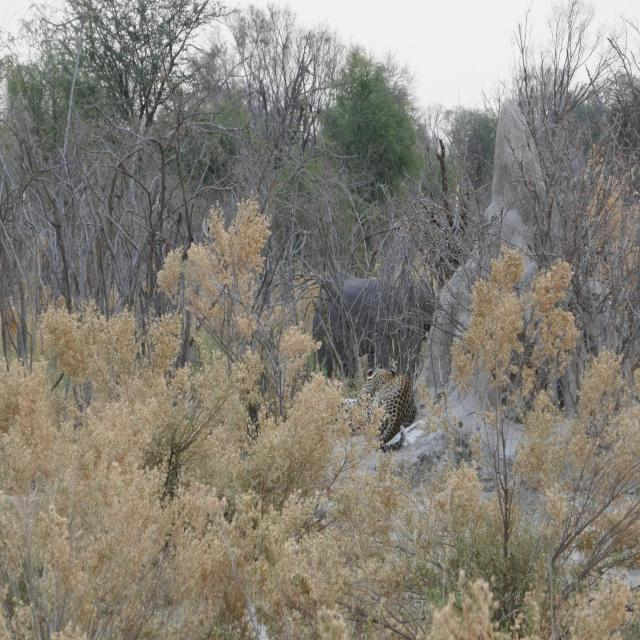Leopard: (349, 359, 419, 459)
